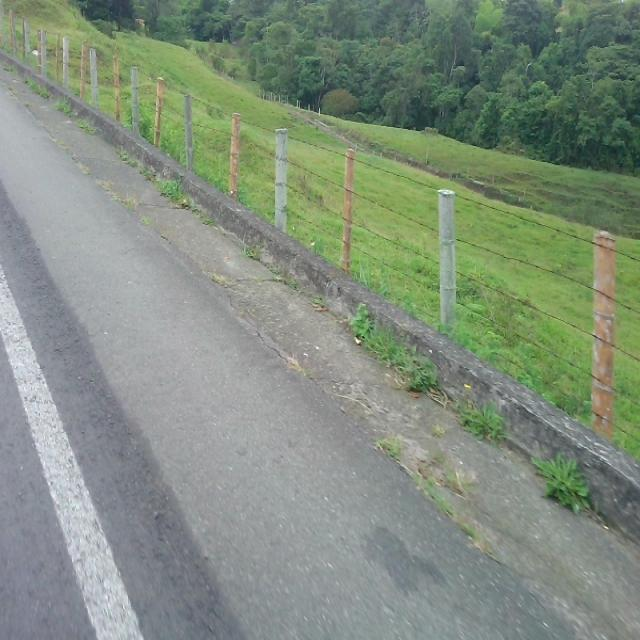DITCH: (1, 49, 638, 638)
